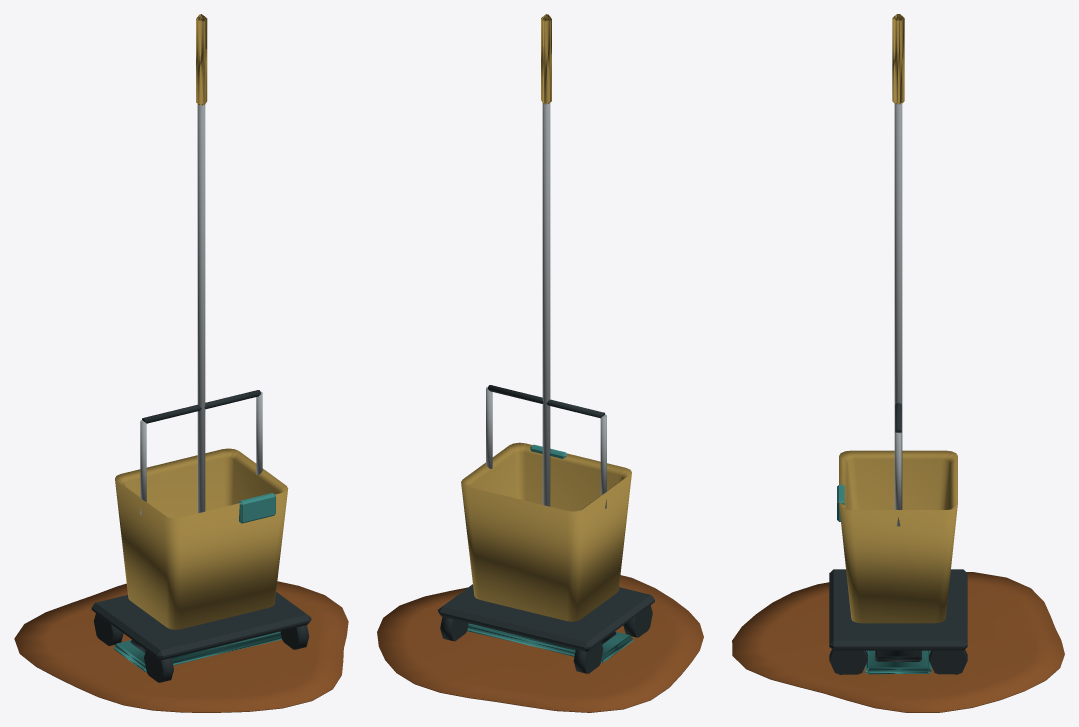
File: service-props.glb
The picture shows the model from 3 angles, left to right: view 1: azimuth 30°, elevation 25°; view 2: azimuth 150°, elevation 25°; view 3: azimuth 270°, elevation 25°; orthographic projection.
Visible parts, largest first — view 1: CleaningCaddy, FloorSpill, Mop; view 2: CleaningCaddy, FloorSpill, Mop; view 3: CleaningCaddy, FloorSpill, Mop.
Boxes of the visible parts, <box> form: CleaningCaddy: <box>91,390,311,682</box>; FloorSpill: <box>14,581,348,712</box>; Mop: <box>114,14,281,671</box>; CleaningCaddy: <box>438,385,654,673</box>; FloorSpill: <box>377,575,703,712</box>; Mop: <box>467,14,632,662</box>; CleaningCaddy: <box>829,403,967,674</box>; FloorSpill: <box>732,572,1064,712</box>; Mop: <box>865,14,931,674</box>.
Size of the model in its own units: 0.6 by 1.25 by 0.6.
